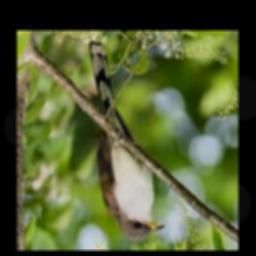Cuckoo: (89, 41, 164, 240)
